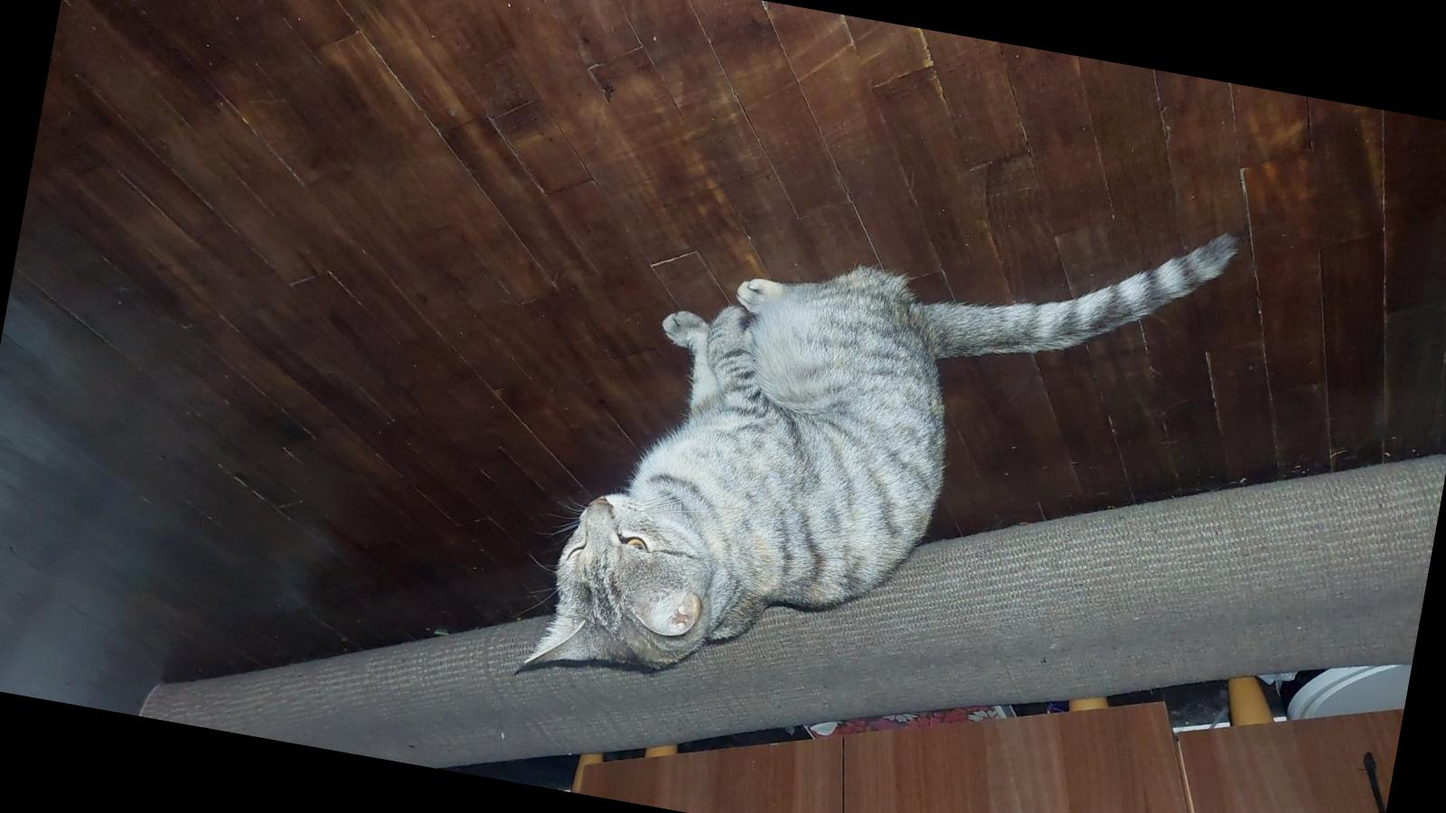macka: (512, 120, 1242, 788)
